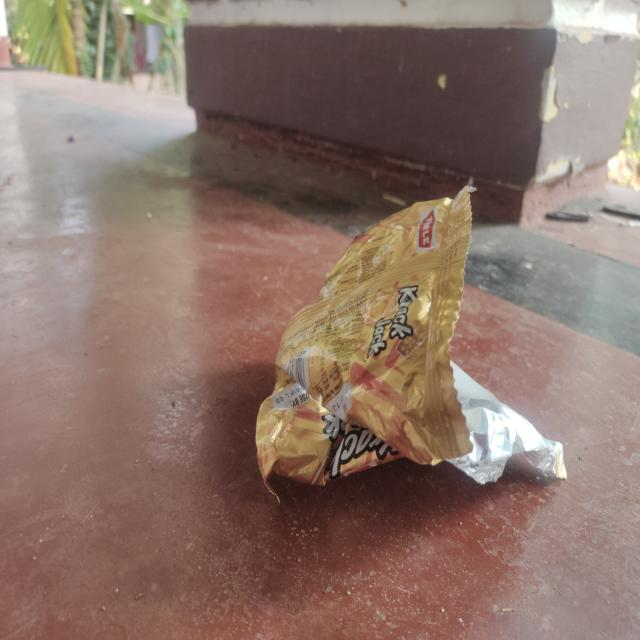plastic: (251, 178, 568, 506)
